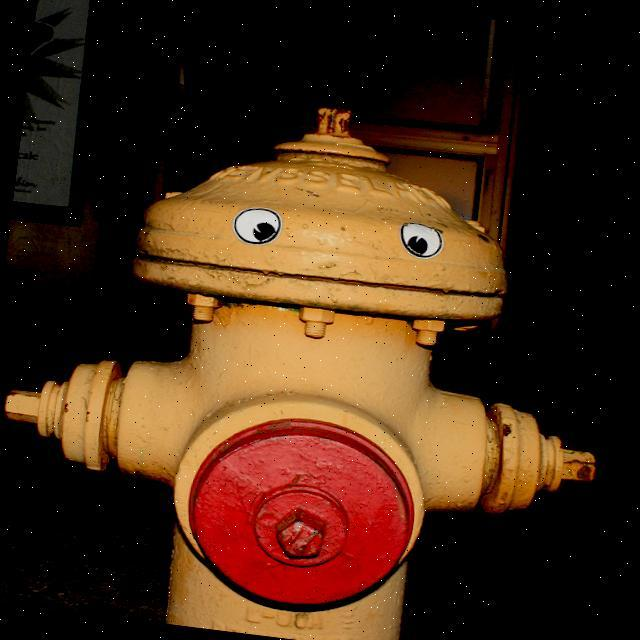fire_hydrant: (0, 71, 640, 640)
